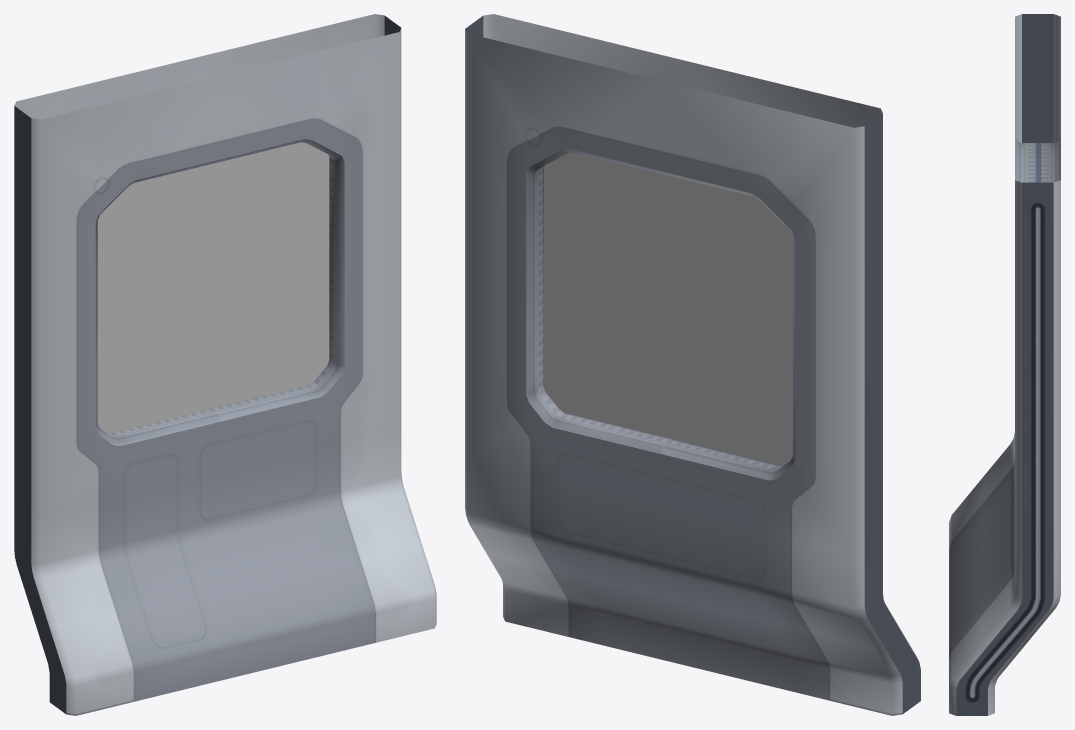
Rendered from Room_A_door.fbx.
The picture shows the model from 3 angles, left to right: view 1: azimuth 30°, elevation 25°; view 2: azimuth 150°, elevation 25°; view 3: azimuth 270°, elevation 25°; orthographic projection. The views are drawn at different scales.
Visible parts, largest first — view 1: Room_A_door; view 2: Room_A_door; view 3: Room_A_door.
Part boxes in pixels (x1,y1,x2,y2): Room_A_door: (14, 14, 436, 715); Room_A_door: (465, 14, 920, 715); Room_A_door: (949, 14, 1060, 715).
Bounding box in the file's own units: 182 × 268 × 50.98.
